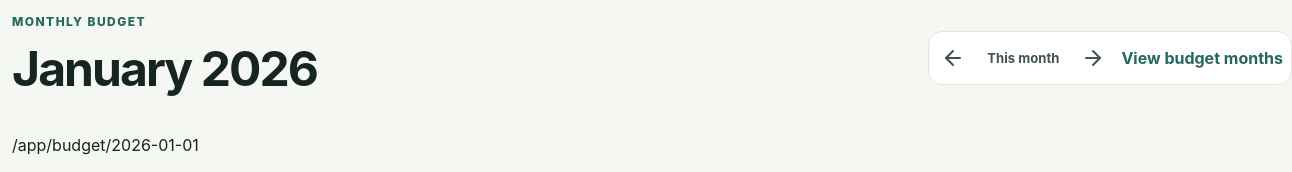
Test: BudgetMonthNavigation › keeps previous, current, next, and month-list navigation available
expect the navigation bar "budget month" is shown: met, box [928,30,1291,84]
Click the button named "Previous month" at (953, 58), box [933,38,973,78]
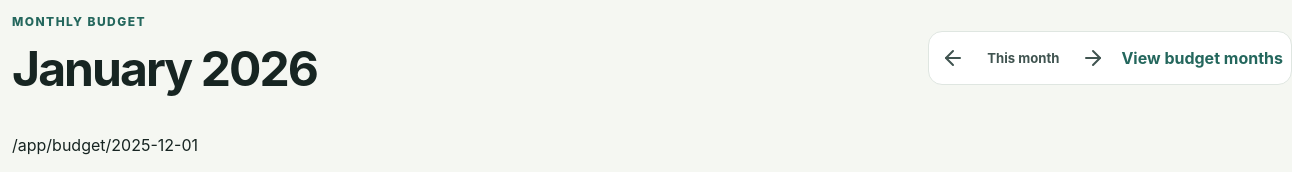
expect the text "/app/budget/2025-12-01" is shown: met, box [12,135,198,155]
Click the button named "Next month" at (1093, 58), box [1073,38,1113,78]
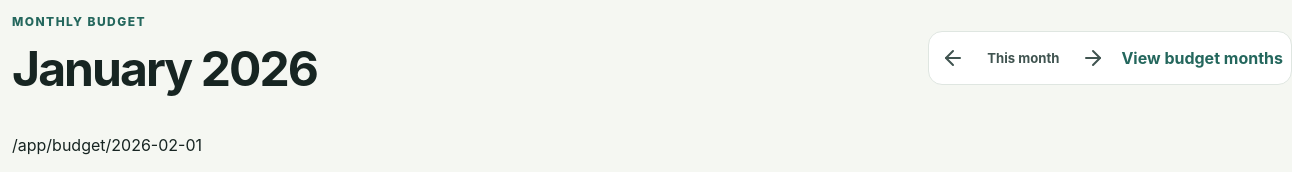
expect the text "/app/budget/2026-02-01" is shown: met, box [12,135,202,155]
Click the button "This month" at (1023, 58), box [977,38,1069,78]
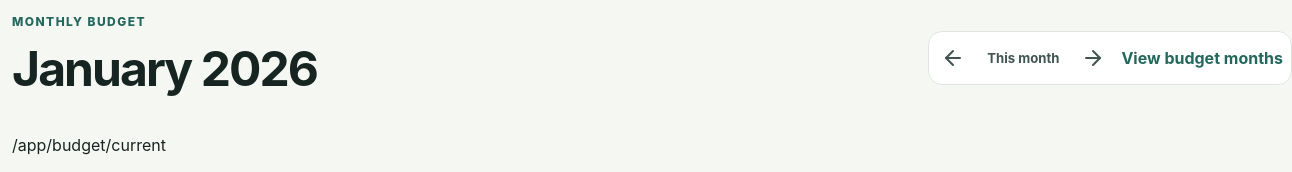
expect the text "/app/budget/current" is shown: met, box [12,135,166,155]
